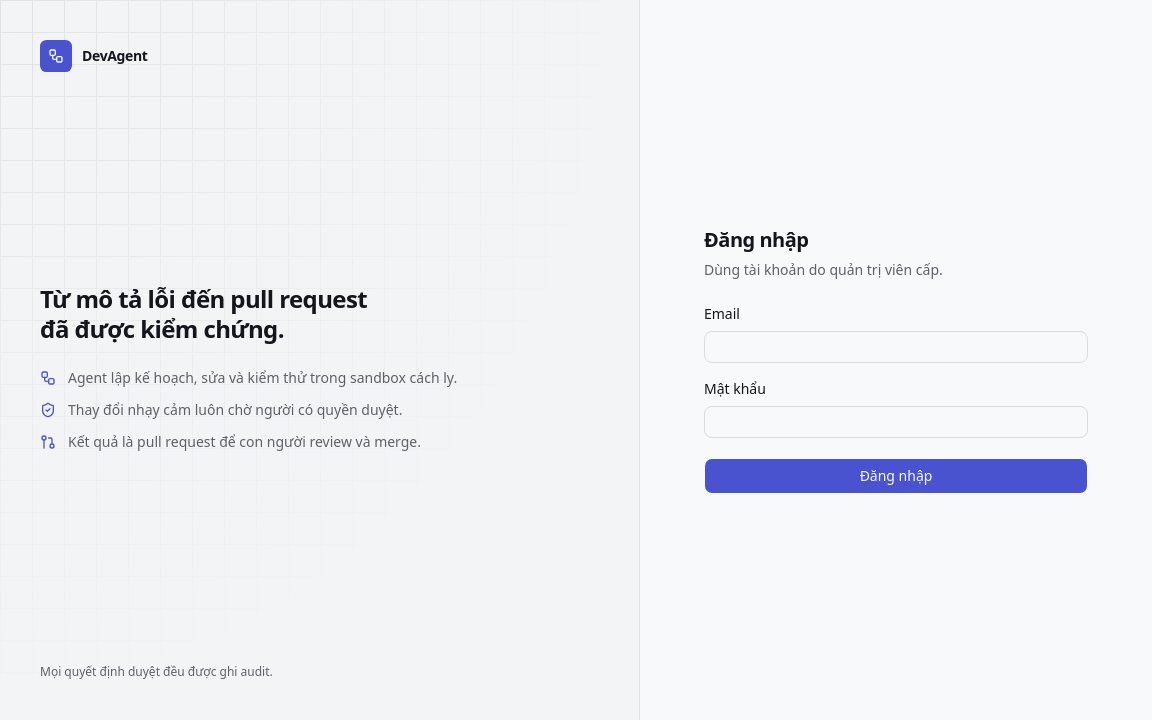
it: gửi thông tin đã nhập và hiện lỗi đăng nhập từ API
In the field labelled "Email": (896, 347) [704,331,1088,363], type "owner@example.test"
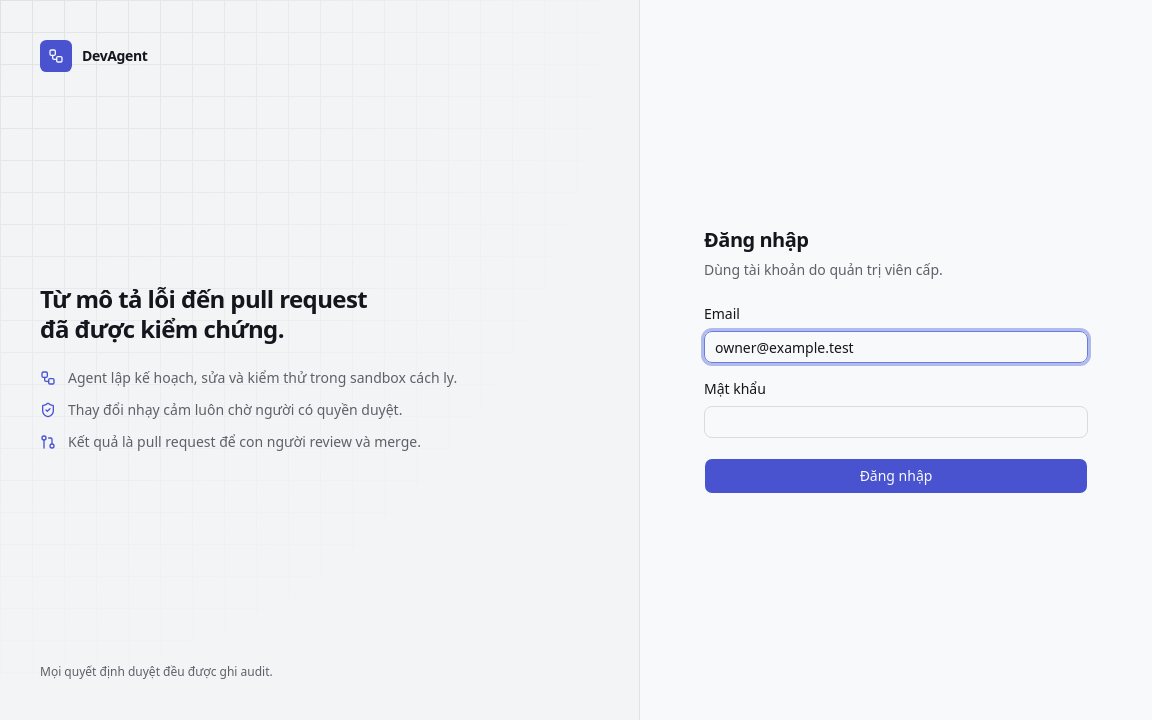
In the password field labelled "Mật khẩu": (896, 422) [704,406,1088,438], type "Example-pass-123"
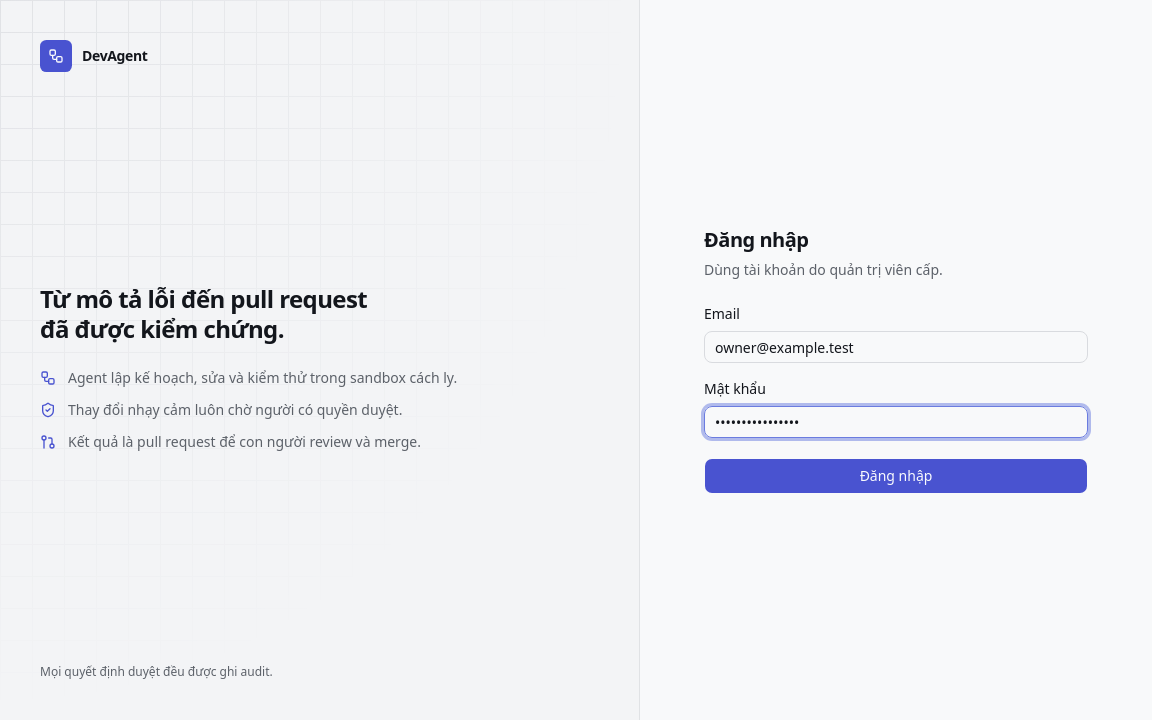
Click the button "Đăng nhập": (896, 476) [704,458,1088,494]
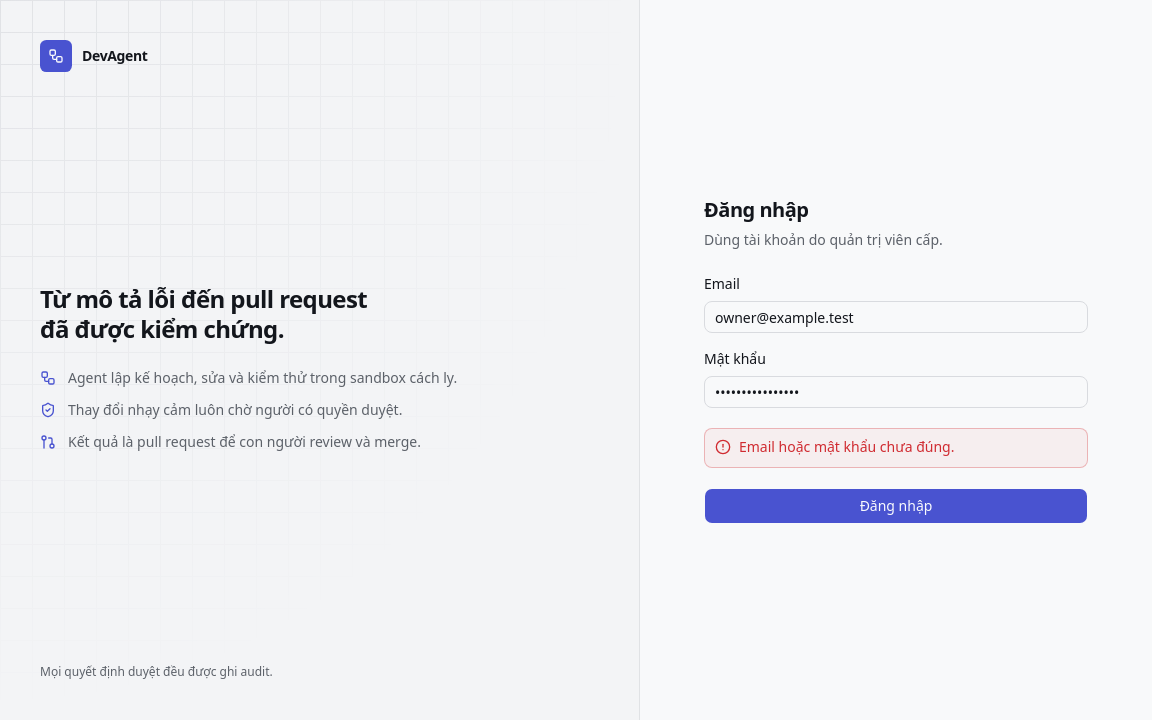
Check: the button "Đăng nhập" is enabled, box [704,488,1088,524]
Check: the text "Email hoặc mật khẩu chưa đúng." is shown, box [739,437,954,456]
